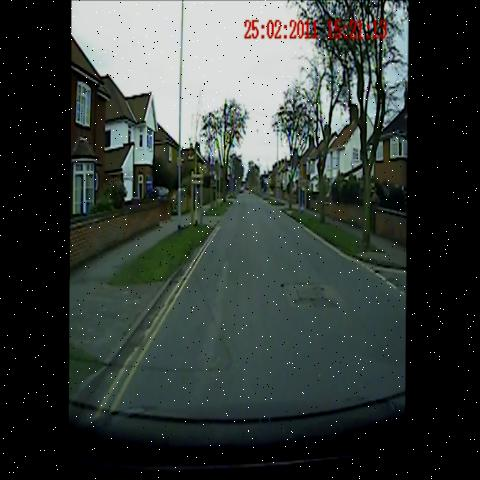pothole: (273, 266, 345, 320)
